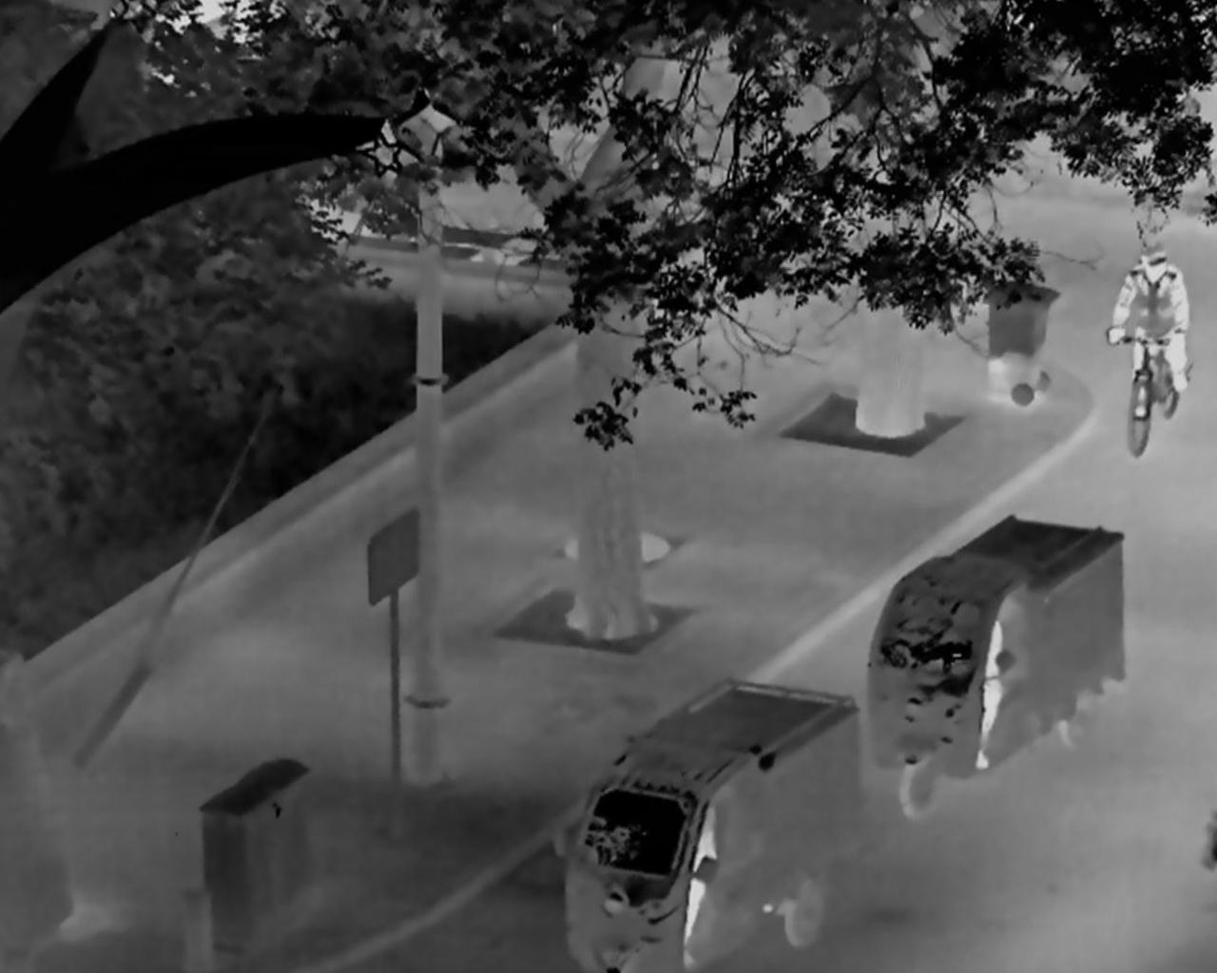person: (1107, 242, 1187, 417), (671, 821, 717, 969), (969, 617, 1003, 771)
